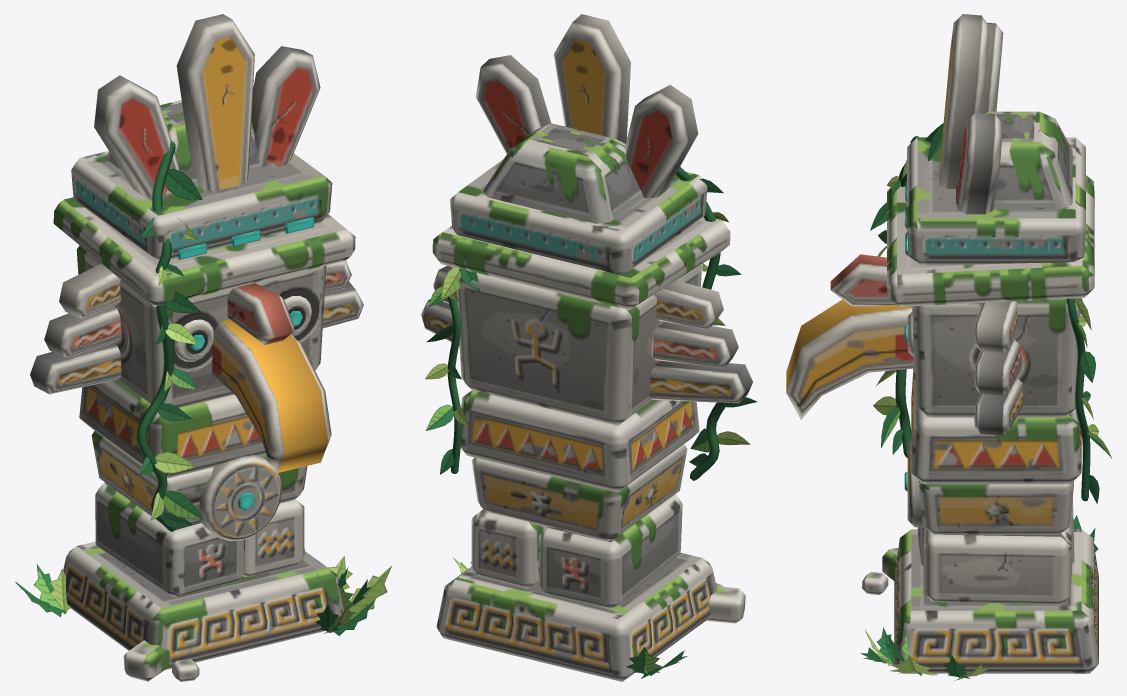
Rendered from gate_totem_b.glb.
3 views of the same model, side by side, from view 1: azimuth 30°, elevation 25°; view 2: azimuth 150°, elevation 25°; view 3: azimuth 270°, elevation 25° (orthographic).
Parts seen in each view (by area): view 1: 0000_add, 0015_add, 0014_add, 0012_add, 0027_add, 0007_add, 0006_add, 0001_add, 0026_add, 0028_add, 0004_add, 0003_add (+16 smaller); view 2: 0007_add, 0000_add, 0006_add, 0015_add, 0025_add, 0014_add, 0003_add, 0001_add, 0027_add, 0026_add, 0028_add, 0002_add (+7 smaller); view 3: 0000_add, 0007_add, 0015_add, 0006_add, 0014_add, 0002_add, 0012_add, 0003_add, 0025_add, 0027_add, 0028_add, 0013_add (+8 smaller).
Part boxes in pixels (bbox=[...]): 0000_add: bbox=[63, 541, 344, 669]; 0015_add: bbox=[71, 151, 332, 261]; 0014_add: bbox=[53, 197, 355, 307]; 0012_add: bbox=[212, 319, 331, 473]; 0027_add: bbox=[176, 14, 254, 191]; 0007_add: bbox=[76, 245, 326, 407]; 0006_add: bbox=[79, 379, 265, 478]; 0001_add: bbox=[95, 482, 244, 597]; 0026_add: bbox=[94, 75, 179, 196]; 0028_add: bbox=[251, 46, 320, 171]; 0004_add: bbox=[199, 455, 281, 541]; 0003_add: bbox=[91, 431, 307, 527]; 0007_add: bbox=[456, 264, 701, 425]; 0000_add: bbox=[436, 553, 716, 681]; 0006_add: bbox=[460, 390, 699, 492]; 0015_add: bbox=[450, 159, 707, 273]; 0025_add: bbox=[483, 123, 643, 223]; 0014_add: bbox=[432, 217, 730, 309]; 0003_add: bbox=[471, 444, 687, 540]; 0001_add: bbox=[538, 494, 682, 608]; 0027_add: bbox=[554, 14, 630, 143]; 0026_add: bbox=[625, 85, 698, 198]; 0028_add: bbox=[476, 55, 551, 153]; 0002_add: bbox=[471, 509, 547, 587]; 0000_add: bbox=[894, 529, 1098, 673]; 0007_add: bbox=[912, 299, 1080, 417]; 0015_add: bbox=[907, 137, 1085, 265]; 0006_add: bbox=[911, 368, 1081, 484]; 0014_add: bbox=[887, 175, 1094, 306]; 0002_add: bbox=[923, 521, 1071, 604]; 0012_add: bbox=[786, 299, 913, 419]; 0003_add: bbox=[919, 481, 1073, 534]; 0025_add: bbox=[956, 111, 1072, 209]; 0027_add: bbox=[939, 14, 988, 188]; 0028_add: bbox=[957, 112, 1002, 214]; 0013_add: bbox=[830, 254, 895, 306].
Size of the model in its own units: 6.42 by 11.36 by 5.51.
Materials: 1 (1 with a texture image).
